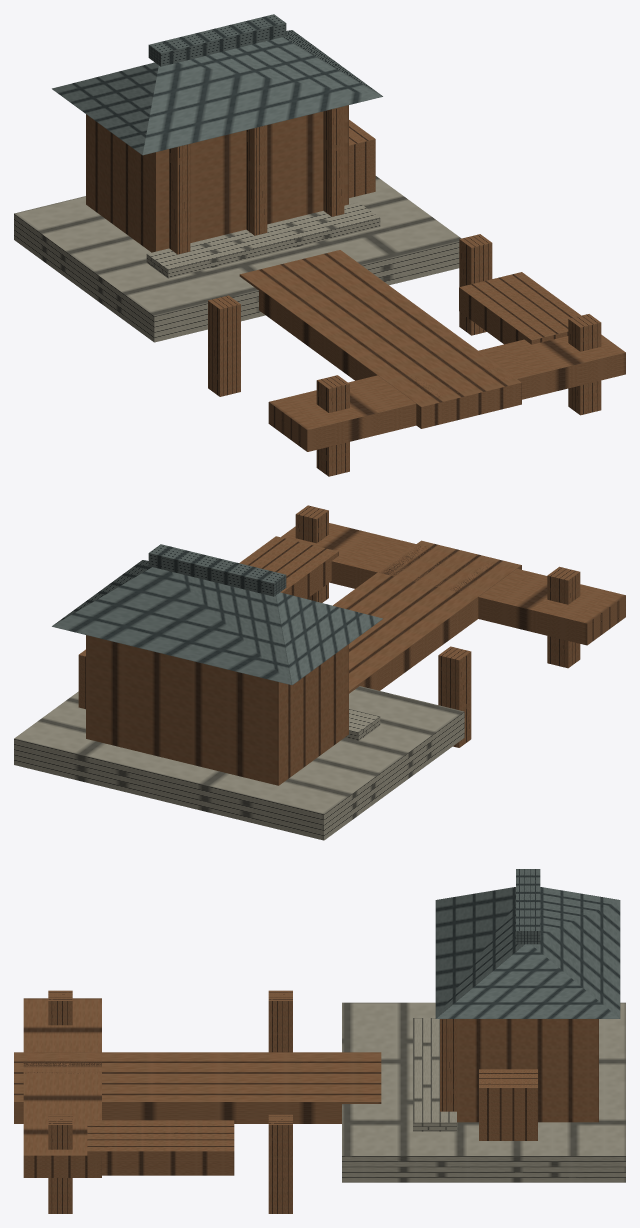
File: port-lod0.glb
The picture shows the model from 3 angles, top to bottom: view 1: azimuth 30°, elevation 25°; view 2: azimuth 150°, elevation 25°; view 3: azimuth 270°, elevation 25°; orthographic projection.
Bounding box in the file's own units: 0.76 × 0.544 × 1.25.
Materials: 1 (1 with a texture image).
